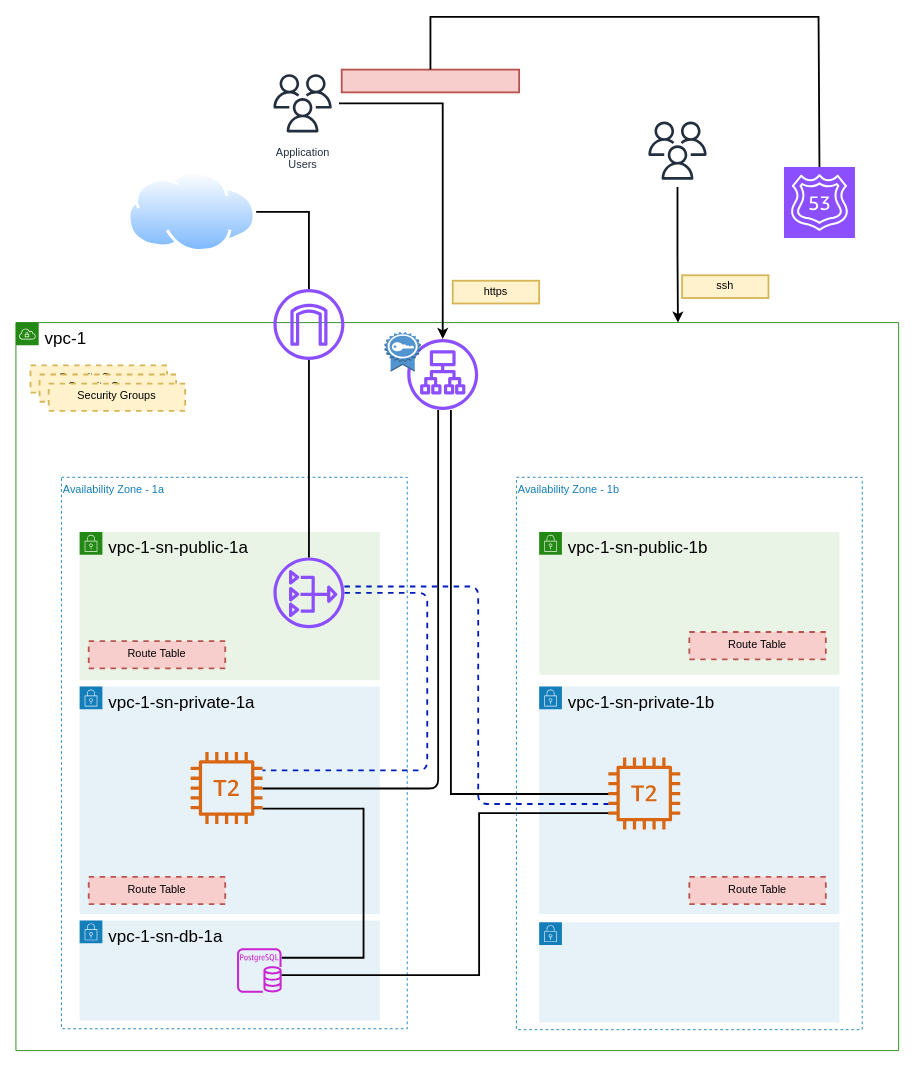
This 915x1067 diagram has some shape labels left out. The shapes that lost their labels are listed below. From the top down, each one's centre as x and y in pixels, then its label:
[430,80]: studentdb.lumenvalley.xyz
[677,150]: Application Support Engineers
[191,211]: Internet
[442,374]: ALB
[688,971]: vpc-1-sn-db-1b
